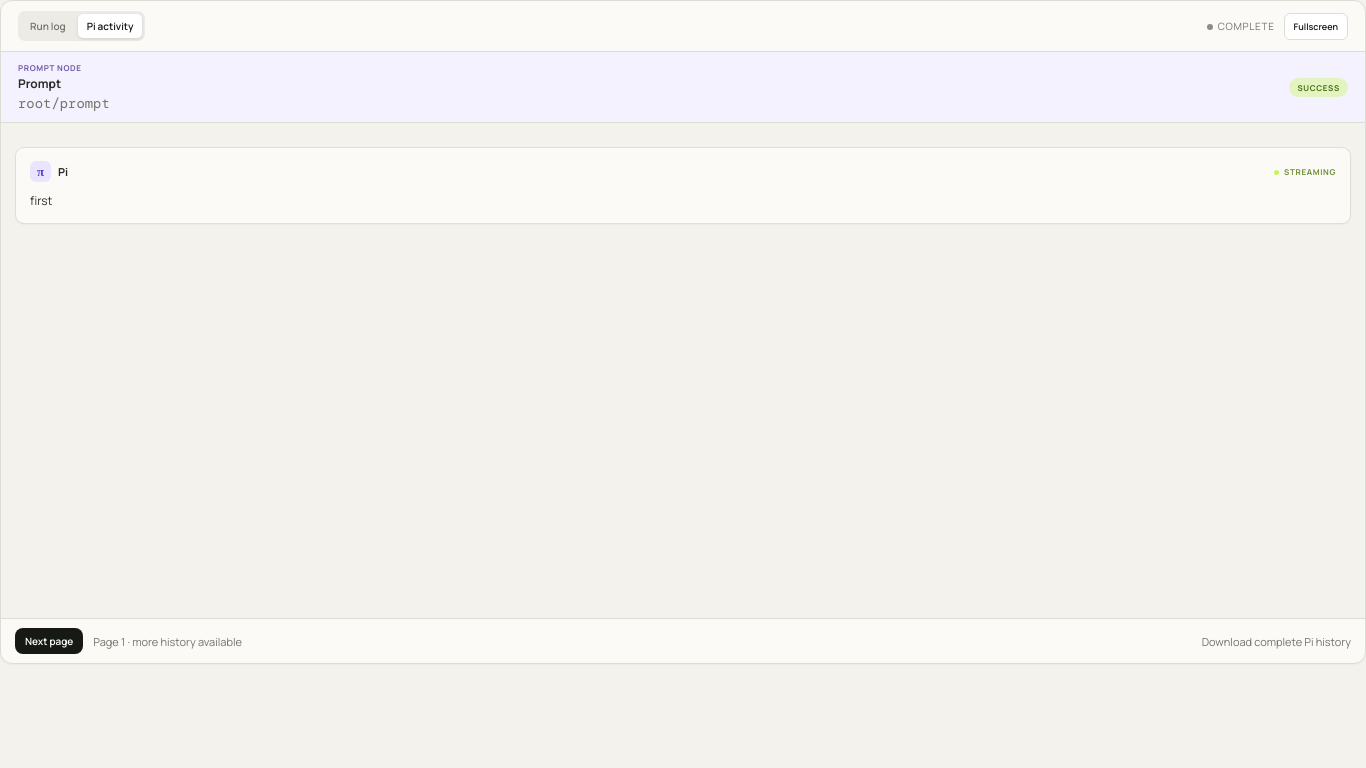
Test case: Pi activity paging › loads one page initially and exposes older persisted history
Expected: the text "first" is shown, [30, 192, 52, 209]
Click the button "Next page".
click(49, 641)  # box [15, 628, 83, 654]
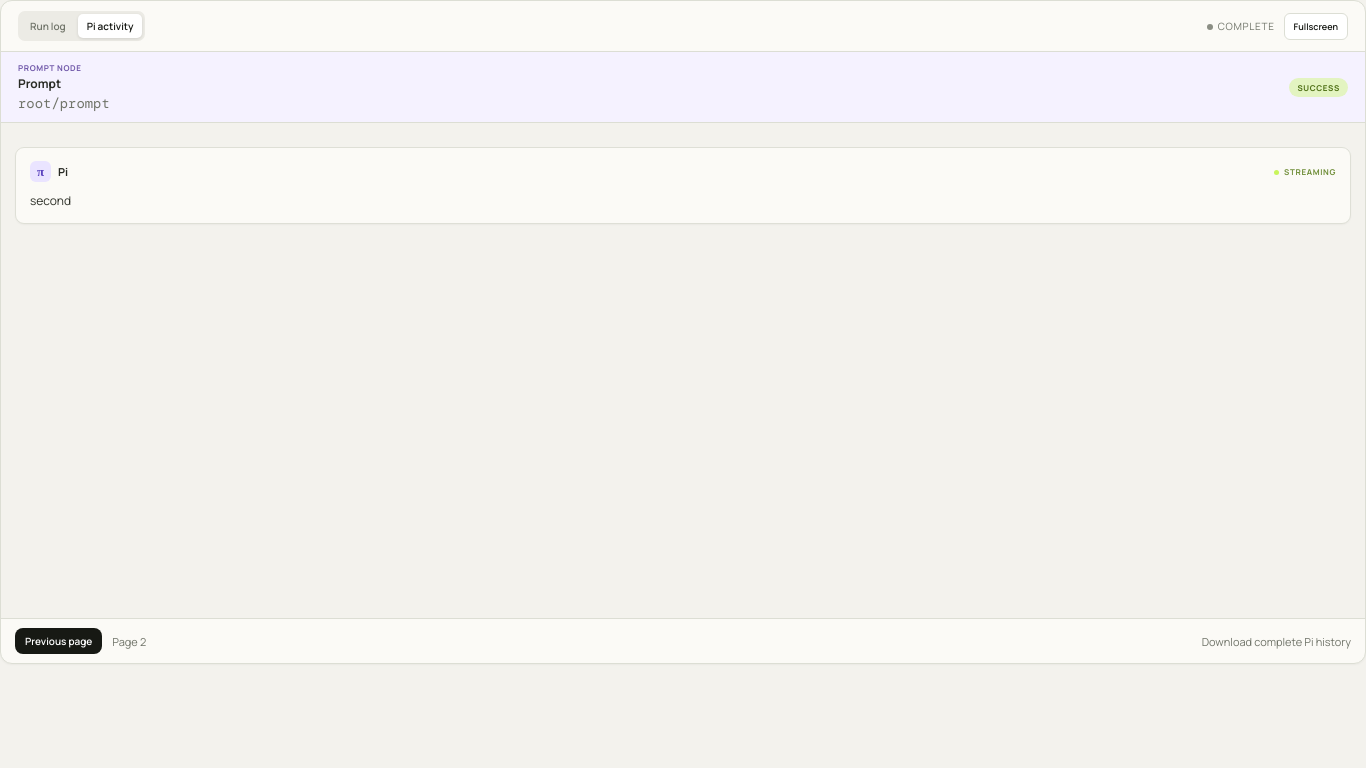
Result: the text "second" is shown at [30, 192, 71, 209]
Result: the text "first" is gone
Click the button "Previous page".
click(59, 641)  # box [15, 628, 102, 654]
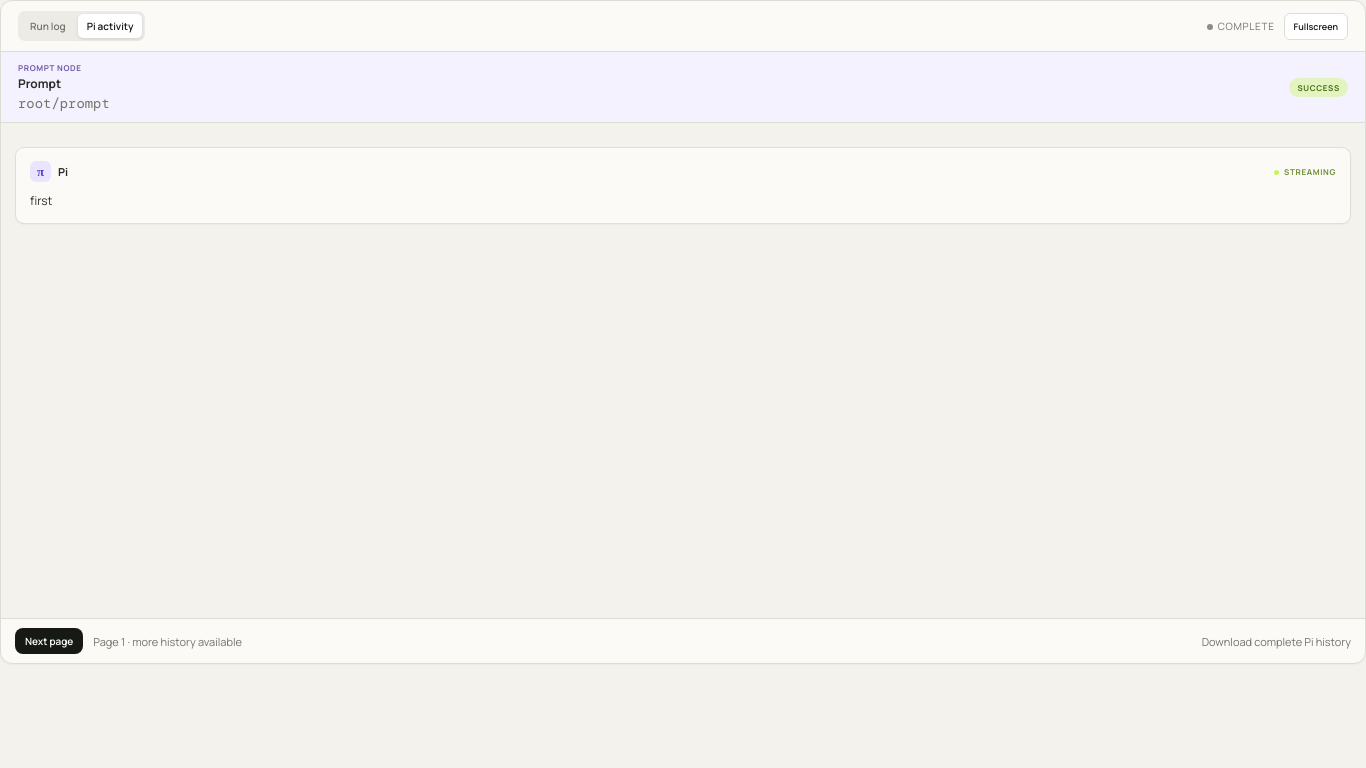
Expected: the link "Download complete Pi history" is shown, [1202, 634, 1351, 648]
Result: the text "first" is shown at [30, 192, 52, 209]
Result: the text "second" is gone
